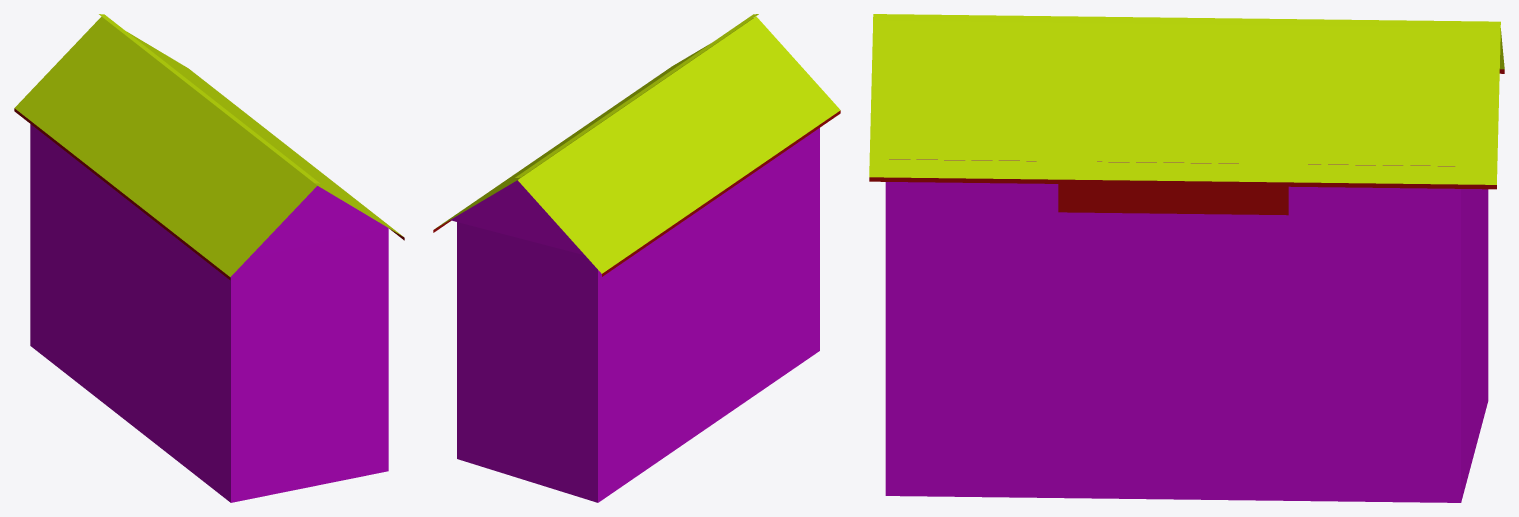
The model's file is bgj_362.glb.
The picture shows the model from 3 angles, left to right: view 1: azimuth 30°, elevation 25°; view 2: azimuth 150°, elevation 25°; view 3: azimuth 270°, elevation 25°; orthographic projection. The views are drawn at different scales.
Parts seen in each view (by area): view 1: bgj_362; view 2: bgj_362; view 3: bgj_362.
Part boxes in pixels (x1,y1,x2,y2): bgj_362: (14,14,404,502); bgj_362: (433,14,840,502); bgj_362: (869,14,1504,502).
Size of the model in its own units: 7.24 by 11.76 by 15.8.
